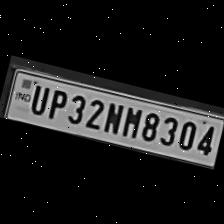0: (172, 113, 198, 150)
2: (80, 92, 108, 130)
3: (61, 87, 88, 124), (156, 110, 180, 146)
4: (192, 117, 218, 155)
8: (136, 106, 162, 143)
M: (118, 101, 144, 138)
N: (98, 96, 125, 134)
P: (42, 82, 70, 122)
U: (25, 80, 50, 116)
